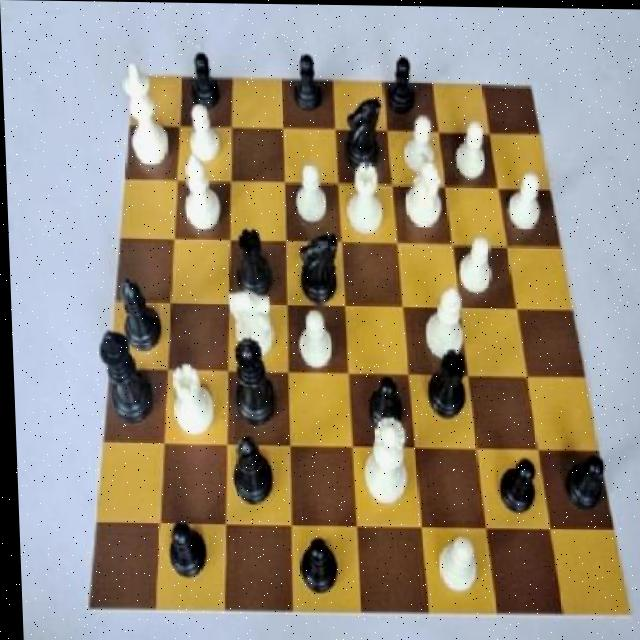bishop: (109, 269, 161, 360), (222, 427, 275, 510)
black-bishop: (91, 315, 157, 438)
black-king: (286, 226, 343, 310), (331, 87, 385, 173)
black-knight: (156, 509, 207, 585), (488, 447, 541, 520), (291, 528, 340, 600), (554, 448, 607, 514), (359, 369, 405, 435), (178, 44, 223, 111), (286, 45, 325, 117), (381, 50, 417, 115)
black-pawn: (220, 327, 280, 435)
black-queen: (223, 217, 277, 303), (420, 345, 469, 425)
black-rook: (175, 148, 222, 238), (416, 280, 466, 361)
white-bishop: (117, 50, 176, 172)
white-king: (222, 287, 274, 366), (399, 157, 445, 233)
white-knight: (449, 113, 496, 190), (396, 109, 442, 179), (430, 528, 477, 596), (499, 164, 547, 230), (180, 93, 220, 169), (291, 305, 335, 371), (454, 230, 494, 296), (289, 159, 327, 226)
white-pawn: (353, 413, 410, 511)
white-queen: (163, 352, 217, 440), (339, 154, 385, 239)
